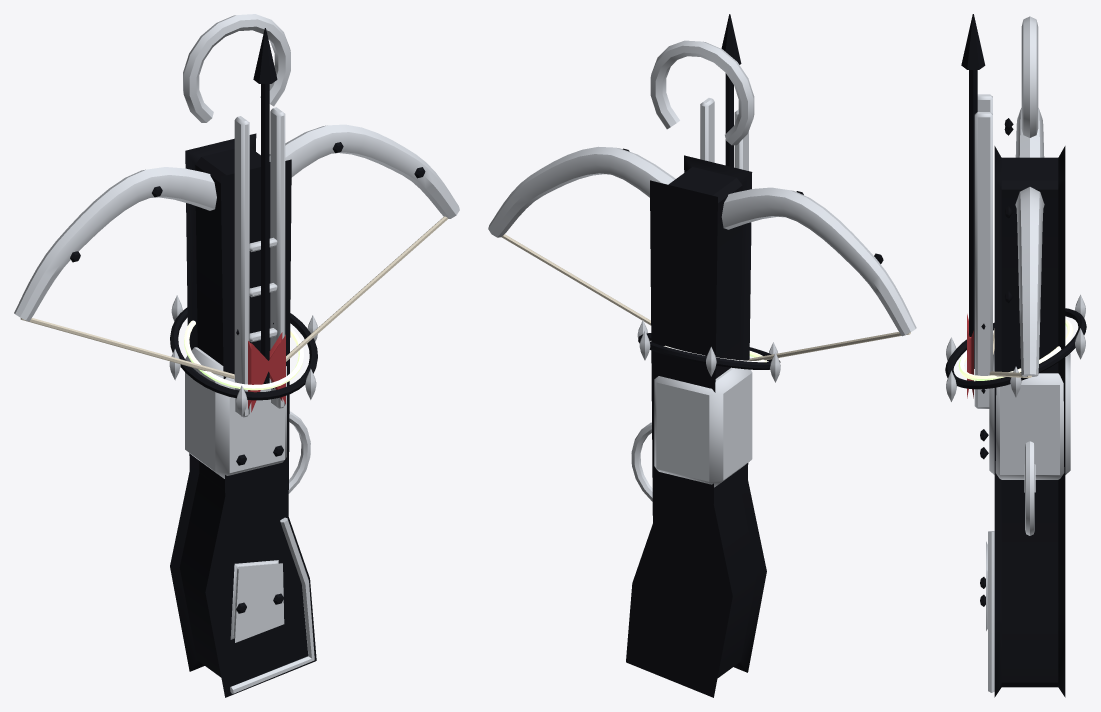
File: esc_w_ranger_crossbow_0.glb
The picture shows the model from 3 angles, left to right: view 1: azimuth 30°, elevation 25°; view 2: azimuth 150°, elevation 25°; view 3: azimuth 270°, elevation 25°; orthographic projection. The views are drawn at different scales.
Visible parts, largest first — view 1: esc_w_ranger_crossbow_0; view 2: esc_w_ranger_crossbow_0; view 3: esc_w_ranger_crossbow_0.
Boxes of the visible parts, box(x1,y1,x2,y2) form: esc_w_ranger_crossbow_0: box(14, 14, 459, 697); esc_w_ranger_crossbow_0: box(488, 14, 916, 697); esc_w_ranger_crossbow_0: box(945, 14, 1086, 697).
Bounding box in the file's own units: 0.7214 × 1.04 × 0.1999.
